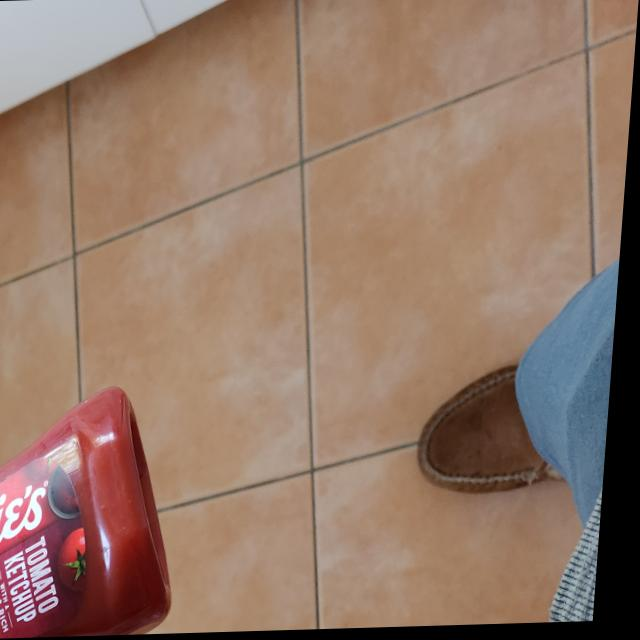ketchup: (0, 386, 191, 640)
